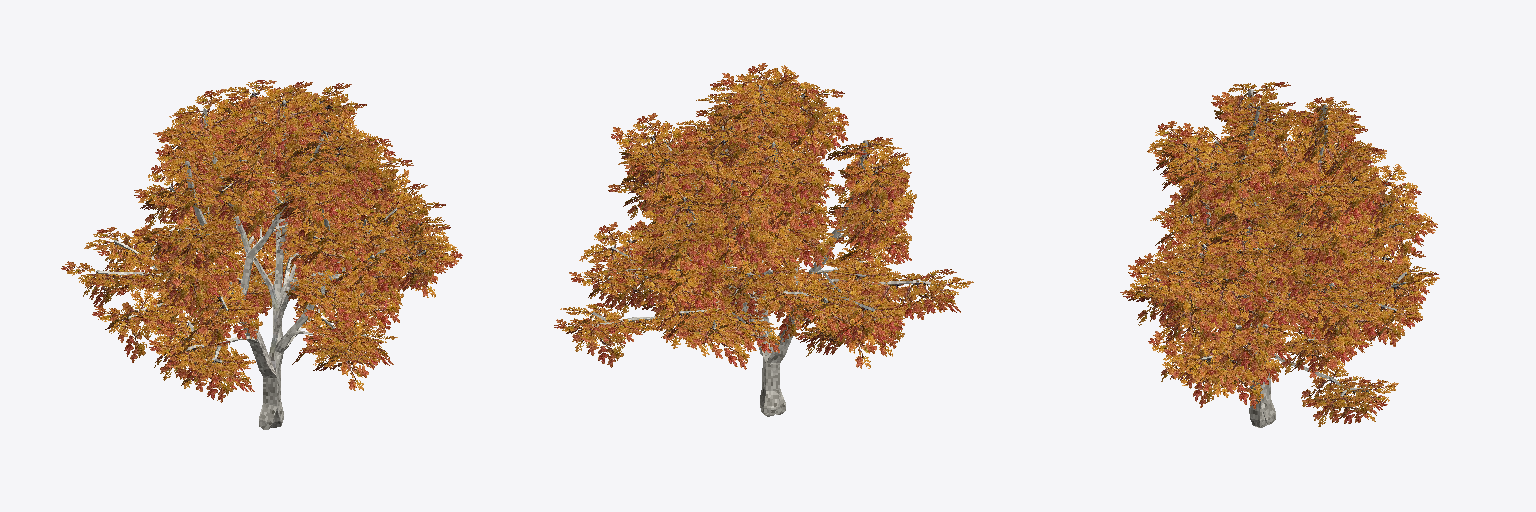
3 views of the same model, side by side, from view 1: azimuth 30°, elevation 25°; view 2: azimuth 150°, elevation 25°; view 3: azimuth 270°, elevation 25° (orthographic).
Parts seen in each view (by area): view 1: Wallnut__Wallnut_.002; view 2: Wallnut__Wallnut_.002; view 3: Wallnut__Wallnut_.002.
Boxes of the visible parts, <box> form: Wallnut__Wallnut_.002: <box>61,80,462,429</box>; Wallnut__Wallnut_.002: <box>554,63,973,416</box>; Wallnut__Wallnut_.002: <box>1120,82,1439,427</box>.
Size of the model in its own units: 15.48 by 14.07 by 12.66.
Materials: 1 (1 with a texture image).